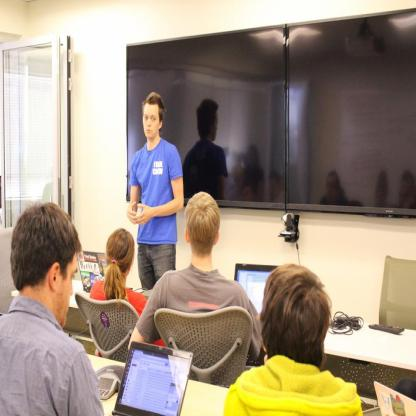board: (108, 338, 190, 414), (234, 262, 280, 315), (373, 381, 416, 416), (78, 252, 109, 294)
